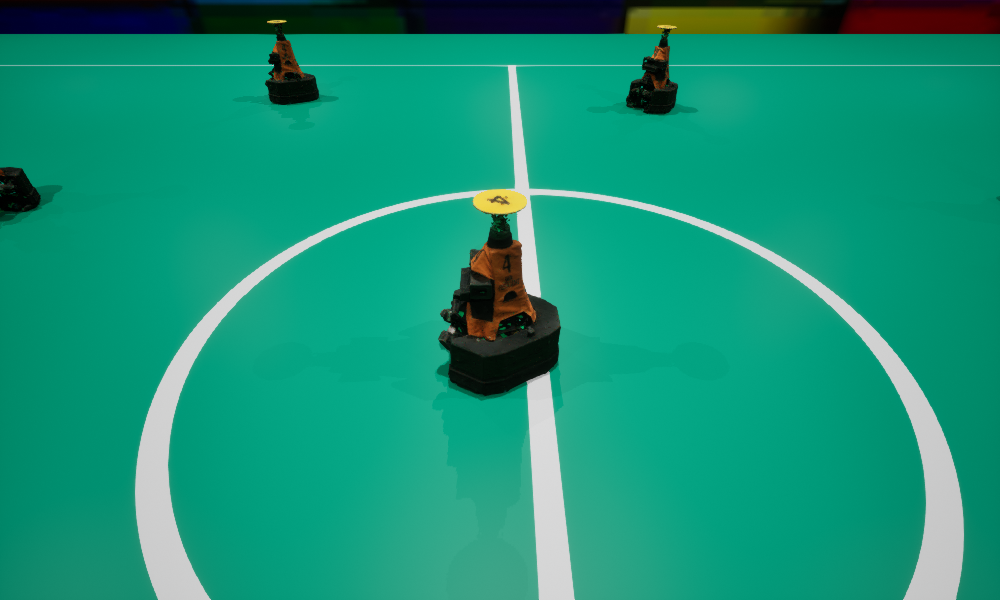o: (438, 189, 560, 395), (626, 25, 677, 113), (265, 20, 318, 103), (0, 167, 40, 212)
